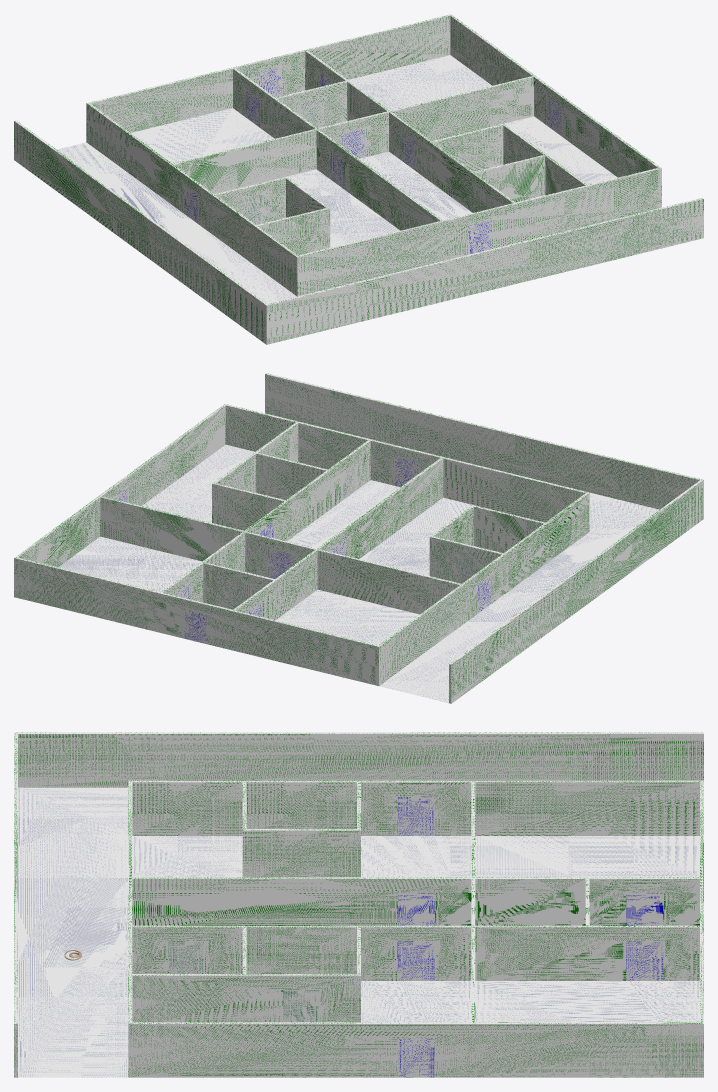
3 renders of one model, top to bottom at view 1: azimuth 30°, elevation 25°; view 2: azimuth 150°, elevation 25°; view 3: azimuth 270°, elevation 25°, orthographic. The views are drawn at different scales.
Parts seen in each view (by area): view 1: SketchUp (×23); view 2: SketchUp (×23); view 3: SketchUp (×25).
Boxes of the visible parts, x1,y1,x2,y2 form: SketchUp (×23): (14, 14, 703, 344); SketchUp (×23): (14, 373, 703, 703); SketchUp (×25): (14, 732, 703, 1077).
Size of the model in its own units: 1050 by 1050 by 90.
